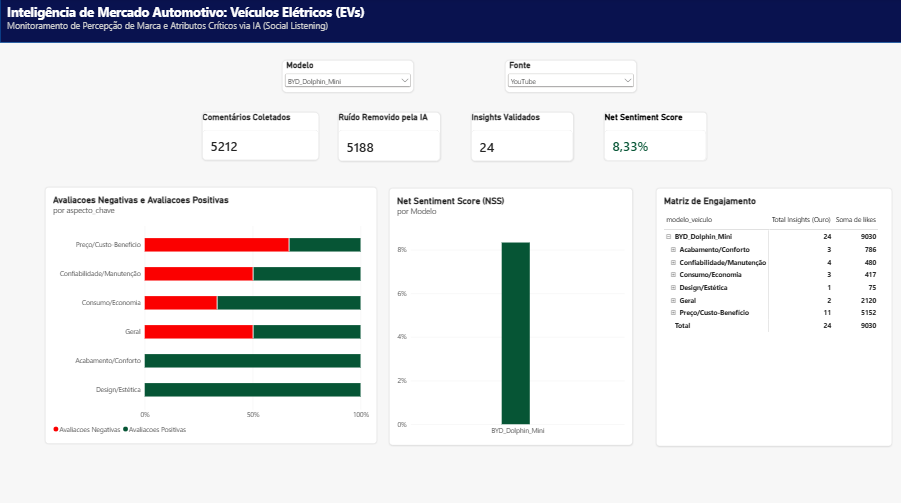

The page's visual inventory and layout, read from the dashboard file:
{"tool":"powerbi","page":{"name":"Página 1","canvas":[1920,1080],"ordinal":0},"visuals":[{"type":"shape","box":[0,0,1920,95],"z":0},{"type":"slicer","fields":{"Values":["dModelo.Modelo"]},"box":[25,111,280,68.6],"z":1000},{"type":"slicer","fields":{"Values":["dFonte.Fonte"]},"box":[376,111,280,68.6],"z":2000},{"type":"cardVisual","title":"Comentários Coletados","fields":{"Data":["_Medidas.Total Volume Bruto"]},"box":[48.9,282.8,249.4,103.3],"z":2001},{"type":"cardVisual","title":"Ruído Removido pela IA","fields":{"Data":["_Medidas.Ruido Descartado"]},"box":[355,282.8,217.5,105],"z":2002},{"type":"cardVisual","title":"Insights Validados","fields":{"Data":["_Medidas.Total Insights (Ouro)"]},"box":[633.5,282.8,217.5,105],"z":2003},{"type":"cardVisual","title":"Net Sentiment Score","fields":{"Data":["_Medidas.Net Sentiment Score (NSS)"]},"box":[916.3,282.8,219,104.2],"z":2004},{"type":"donutChart","fields":{"Y":["_Medidas.Ruido Descartado","_Medidas.Total Insights (Ouro)"]},"box":[48.9,433.7,496.4,340.2],"z":2005},{"type":"hundredPercentStackedBarChart","fields":{"Category":["fAvaliacoes.aspecto_chave"],"Y":["_Medidas.Avaliacoes Negativas","_Medidas.Avaliacoes Positivas"]},"box":[608,433.7,705.5,370.4],"z":2006},{"type":"pivotTable","fields":{"Rows":["fAvaliacoes.modelo_veiculo","fAvaliacoes.aspecto_chave","fAvaliacoes.resumo_insight"],"Values":["Sum(fAvaliacoes.likes)"]},"box":[95.7,803.6,297.6,233.9],"z":2008},{"type":"clusteredColumnChart","fields":{"Category":["dModelo.Modelo"],"Y":["_Medidas.Net Sentiment Score (NSS)"]},"box":[1362.8,433.7,518.7,646.3],"z":2009}]}

Visuals, with their boxes in screenshot pixels (x1, y1, x2, y2), scaled from the page's 1920x1080 canvas onto the 901x503 screenshot:
shape: select_region(0, 0, 900, 44)
slicer - dModelo.Modelo: select_region(12, 52, 143, 84)
slicer - dFonte.Fonte: select_region(176, 52, 308, 84)
"Comentários Coletados" cardVisual: select_region(23, 132, 140, 180)
"Ruído Removido pela IA" cardVisual: select_region(167, 132, 269, 181)
"Insights Validados" cardVisual: select_region(297, 132, 399, 181)
"Net Sentiment Score" cardVisual: select_region(430, 132, 533, 180)
donutChart - _Medidas.Ruido Descartado x _Medidas.Total Insights (Ouro): select_region(23, 202, 256, 360)
hundredPercentStackedBarChart - fAvaliacoes.aspecto_chave x _Medidas.Avaliacoes Negativas: select_region(285, 202, 616, 375)
pivotTable - fAvaliacoes.modelo_veiculo x fAvaliacoes.aspecto_chave: select_region(45, 374, 185, 483)
clusteredColumnChart - dModelo.Modelo x _Medidas.Net Sentiment Score (NSS): select_region(640, 202, 883, 502)
